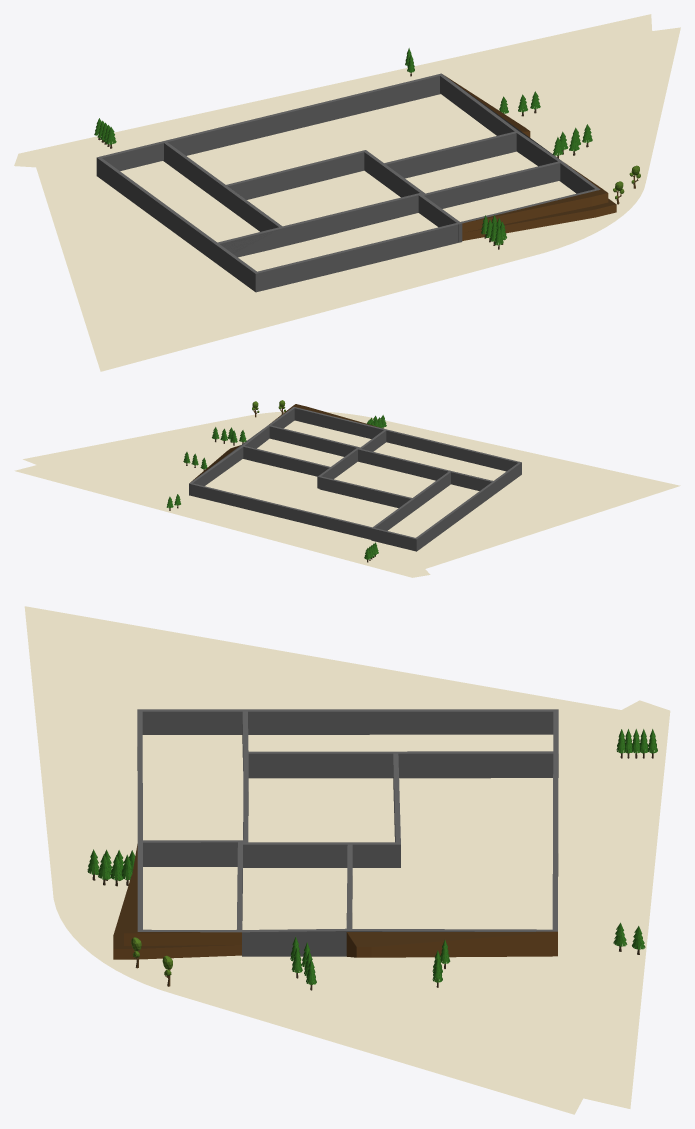
The model's file is Planta1Efitec.glb.
3 views of the same model, one above another, from view 1: azimuth 30°, elevation 25°; view 2: azimuth 150°, elevation 25°; view 3: azimuth 270°, elevation 25° (orthographic). The views are drawn at different scales.
Visible parts, largest first — view 1: Sketch, Sketch.008; view 2: Sketch, Sketch.008; view 3: Sketch, Sketch.008.
Boxes of the visible parts, left/top/right/bottom form: Sketch: left=14, top=14, right=680, bottom=371; Sketch.008: left=96, top=73, right=616, bottom=292; Sketch: left=14, top=411, right=680, bottom=577; Sketch.008: left=189, top=404, right=521, bottom=551; Sketch: left=24, top=606, right=670, bottom=1114; Sketch.008: left=113, top=709, right=558, bottom=959.
Bounding box in the file's own units: 1143 × 32.93 × 613.
